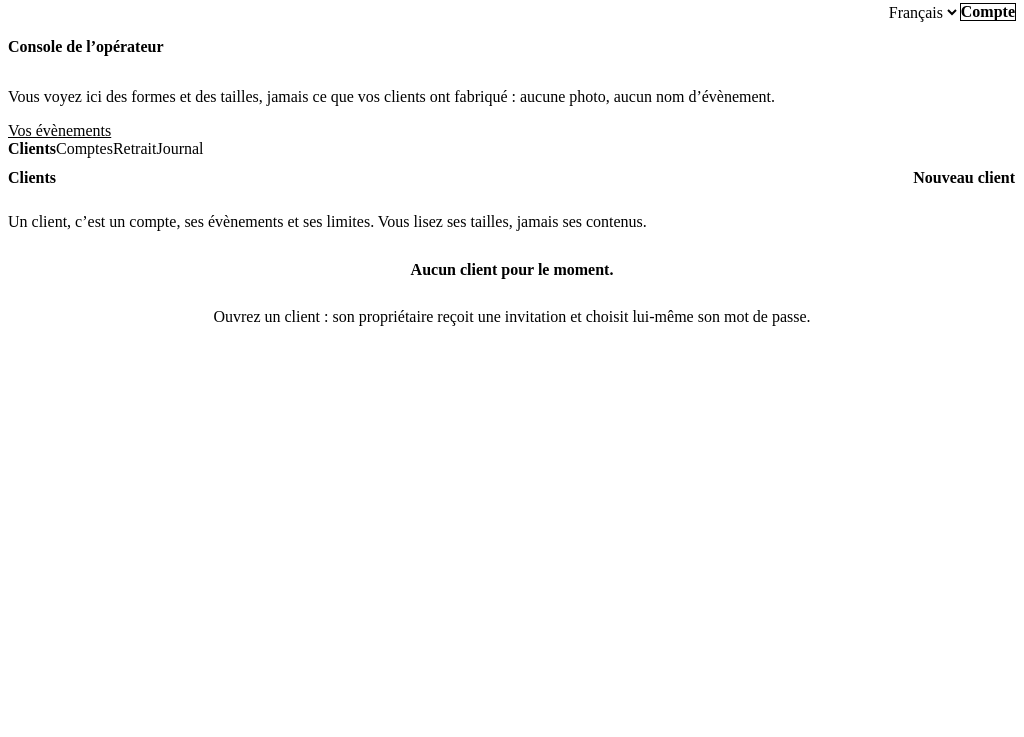
Scenario: opening a client › names a box that is not a number, and sends nothing
The width and height of the screenshot is (1024, 737).
Click the button "Nouveau client". click: (964, 178)
box: x1=912 y1=169 x2=1016 y2=187
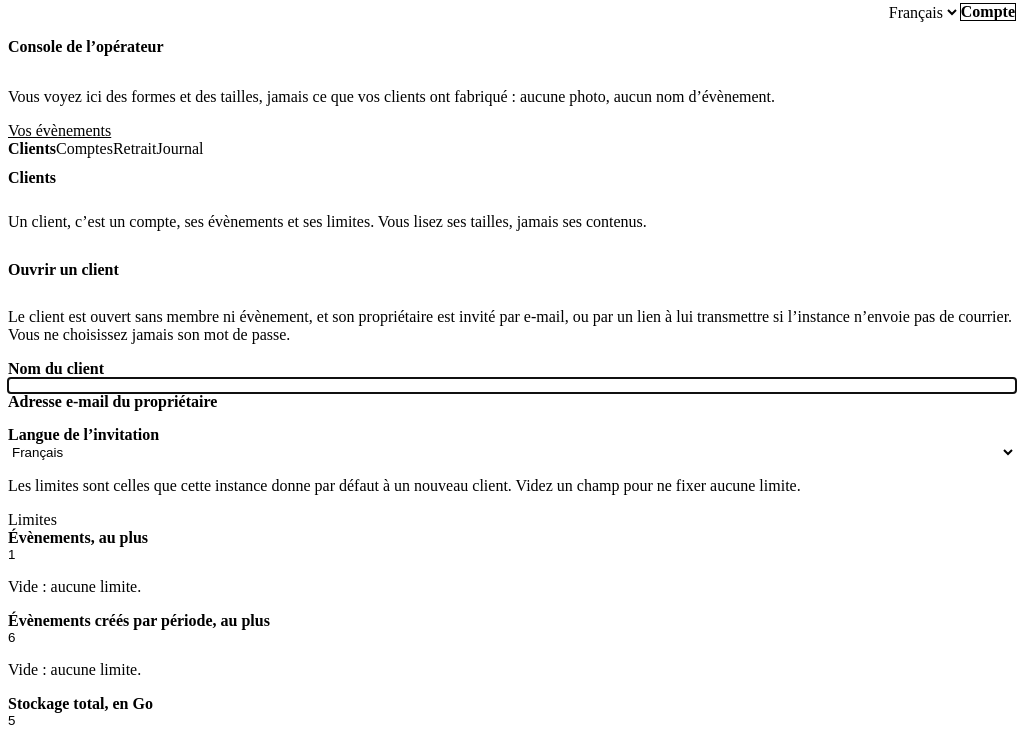
Result: the field labelled "Évènements, au plus" is shown at x1=8 y1=547 x2=1016 y2=562
Type "Atelier Alpha" into the field labelled "Nom du client". click: (512, 386)
box: x1=8 y1=378 x2=1016 y2=393
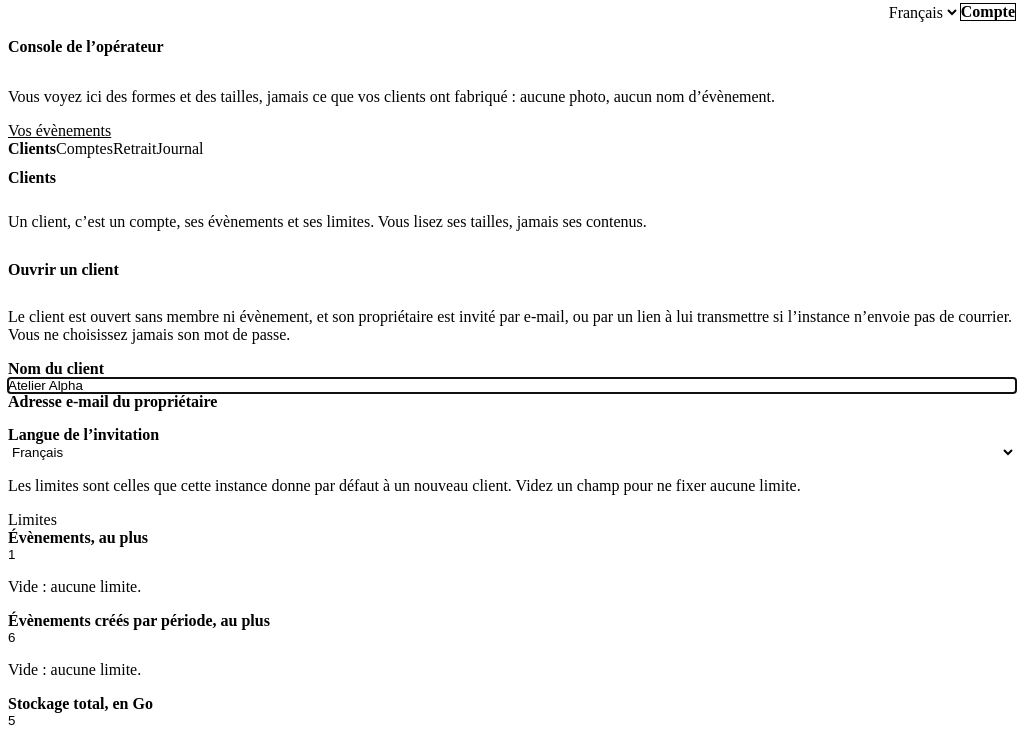
Type "camille@example.com" into the field labelled "Adresse e-mail du propriétaire". click: (512, 418)
box: x1=8 y1=411 x2=1016 y2=426
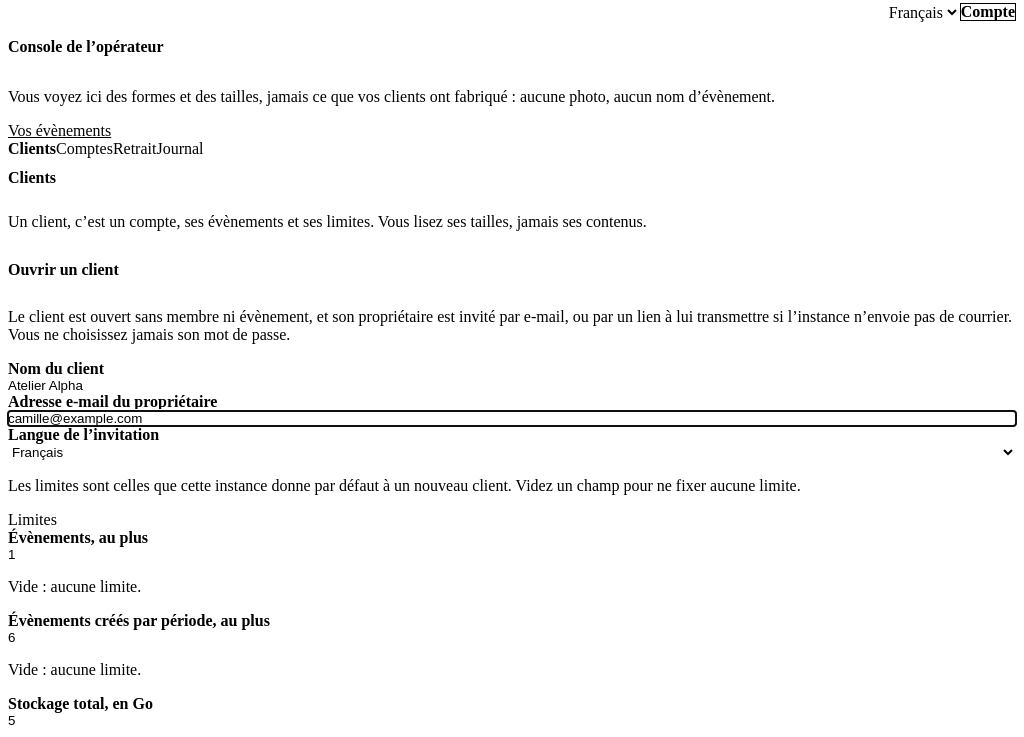
Replace the text in the field labelled "Évènements, au plus" with "beaucoup". click: (512, 554)
box: x1=8 y1=547 x2=1016 y2=562
(page scrolled)
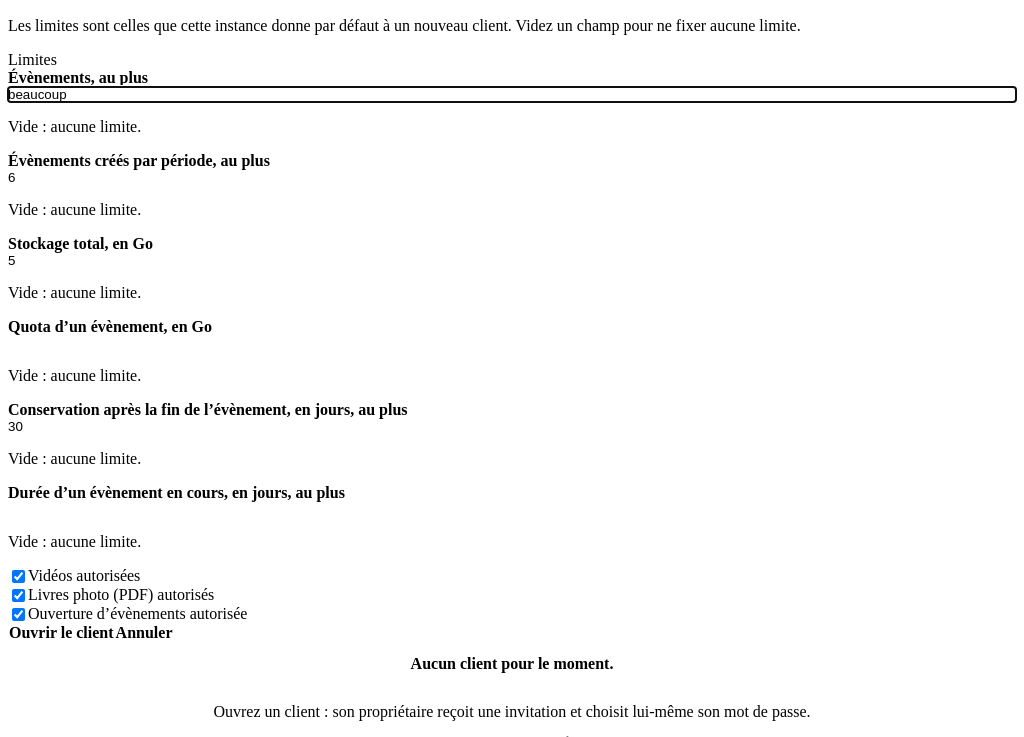
Click the button "Ouvrir le client". click: (61, 633)
box: x1=8 y1=624 x2=115 y2=642
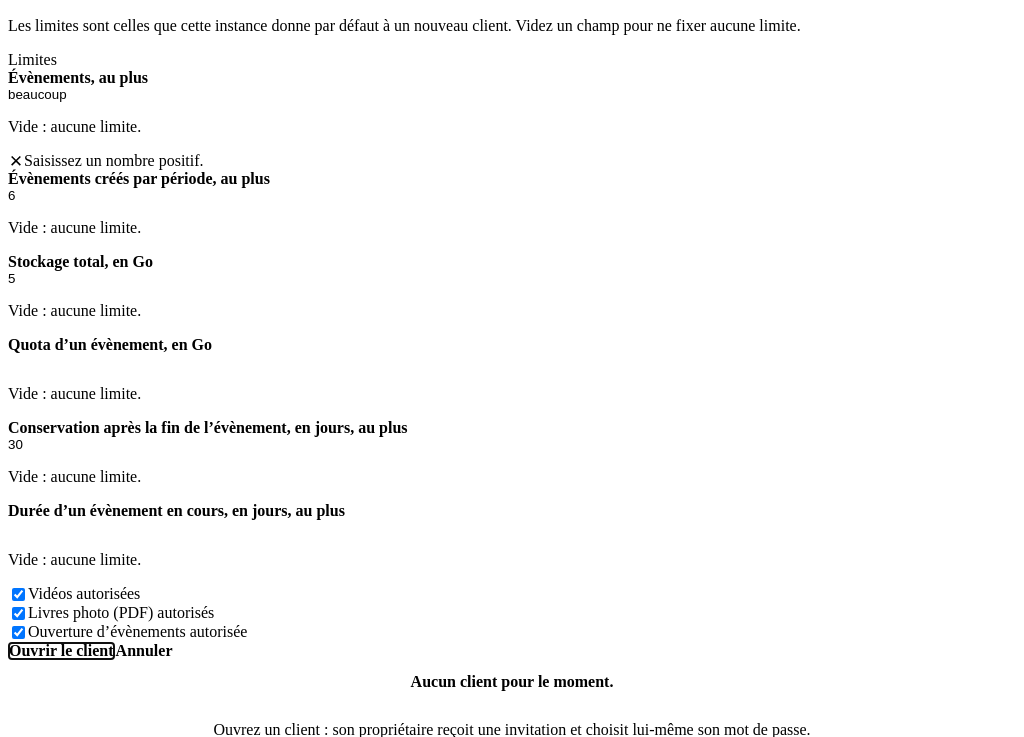
Result: the text "Saisissez un nombre positif." is shown at x1=24 y1=152 x2=204 y2=170
